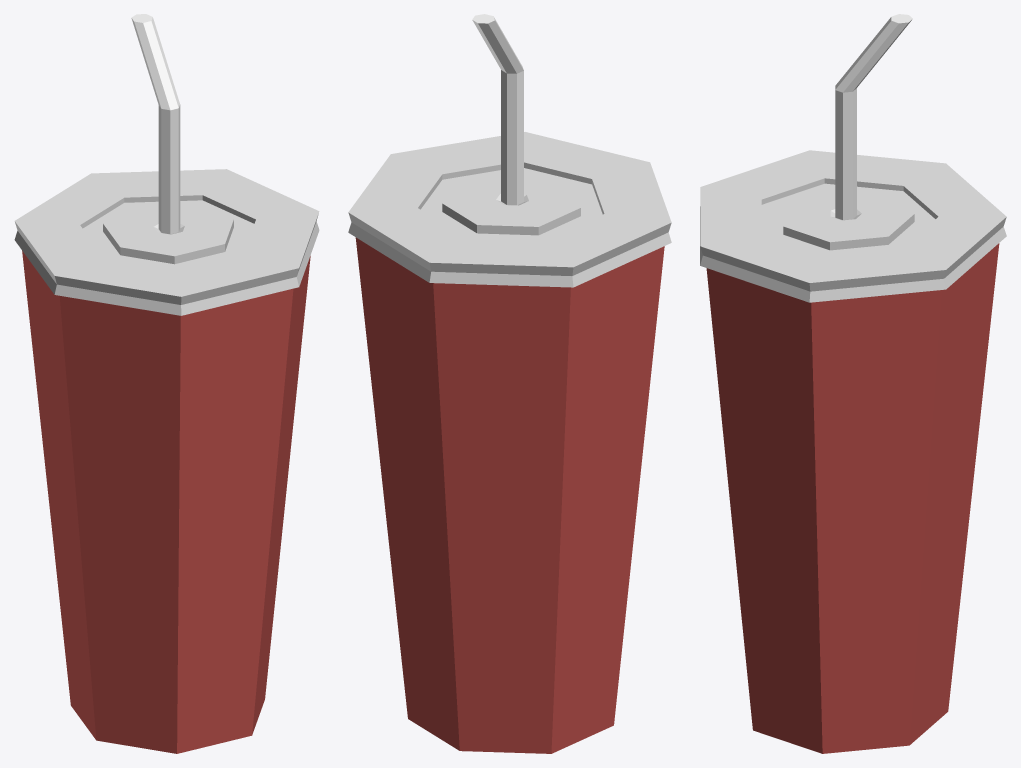
Rendered from Soda_01.fbx.
The picture shows the model from 3 angles, left to right: view 1: azimuth 30°, elevation 25°; view 2: azimuth 150°, elevation 25°; view 3: azimuth 270°, elevation 25°; orthographic projection. The views are drawn at different scales.
Visible parts, largest first — view 1: Soda_01; view 2: Soda_01; view 3: Soda_01.
Part boxes in pixels (x1,y1,x2,y2): Soda_01: (14,14,319,753); Soda_01: (348,14,671,753); Soda_01: (700,14,1006,753).
Bounding box in the file's own units: 12.26 × 29.79 × 11.95.
